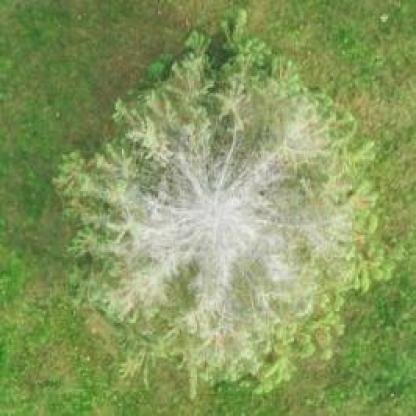Coniferous Tree: (46, 20, 393, 386)
